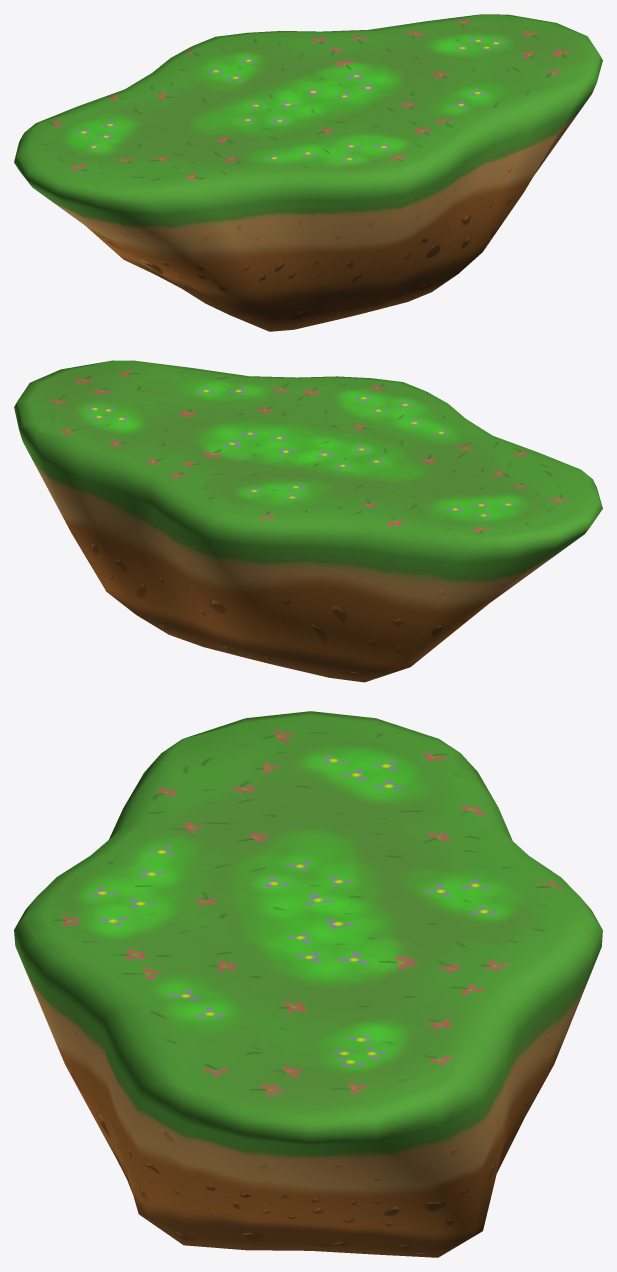
File: FloatingGrassPlatform02.fbx
The picture shows the model from 3 angles, top to bottom: view 1: azimuth 30°, elevation 25°; view 2: azimuth 150°, elevation 25°; view 3: azimuth 270°, elevation 25°; orthographic projection. The views are drawn at different scales.
Parts seen in each view (by area): view 1: FloatingPlatform02; view 2: FloatingPlatform02; view 3: FloatingPlatform02.
Part boxes in pixels (x1,y1,x2,y2): FloatingPlatform02: (14,14,602,331); FloatingPlatform02: (14,360,602,682); FloatingPlatform02: (14,711,602,1257).
Size of what is drawn, in the model's own units: 12.63 by 4 by 7.54.
